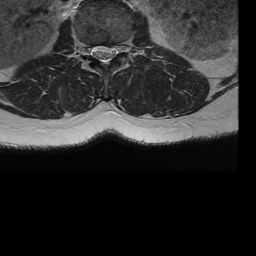CCS_stenosis: (99, 38, 109, 76)
LFS_normal: (117, 36, 125, 62)
LLS_normal: (109, 38, 117, 65)
RFS_normal: (82, 35, 90, 62)
RLS_normal: (90, 38, 99, 67)
